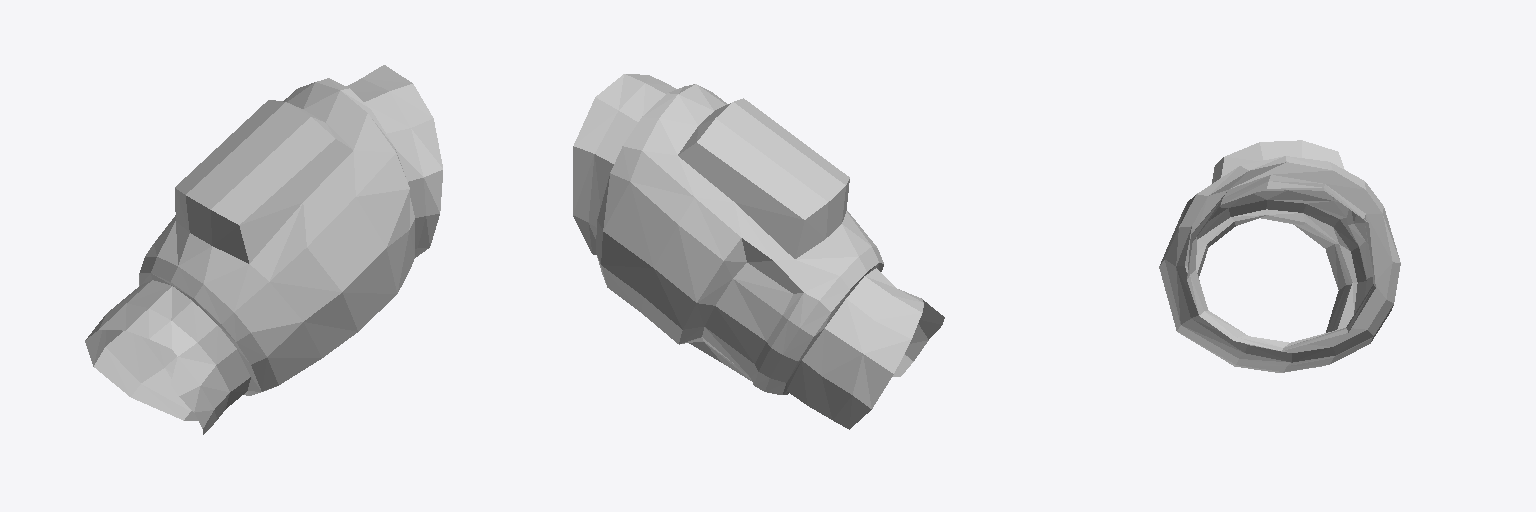
File: sd_uarm.obj
3 views of the same model, side by side, from view 1: azimuth 30°, elevation 25°; view 2: azimuth 150°, elevation 25°; view 3: azimuth 270°, elevation 25° (orthographic).
Visible parts, largest first — view 1: Armor.APA_ref.smd.mesh_0.006_Armor.APA_ref.smd.mesh_0.009; view 2: Armor.APA_ref.smd.mesh_0.006_Armor.APA_ref.smd.mesh_0.009; view 3: Armor.APA_ref.smd.mesh_0.006_Armor.APA_ref.smd.mesh_0.009.
Boxes of the visible parts, x1,y1,x2,y2 form: Armor.APA_ref.smd.mesh_0.006_Armor.APA_ref.smd.mesh_0.009: [85, 65, 442, 434]; Armor.APA_ref.smd.mesh_0.006_Armor.APA_ref.smd.mesh_0.009: [573, 74, 944, 429]; Armor.APA_ref.smd.mesh_0.006_Armor.APA_ref.smd.mesh_0.009: [1159, 140, 1400, 372].
Size of the model in its own units: 10.63 by 9.62 by 7.4.